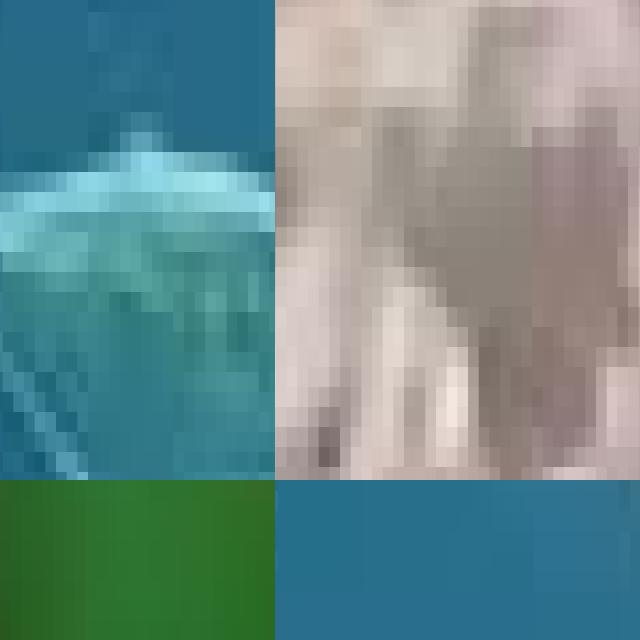fish: (275, 0, 640, 480), (0, 0, 275, 480)
